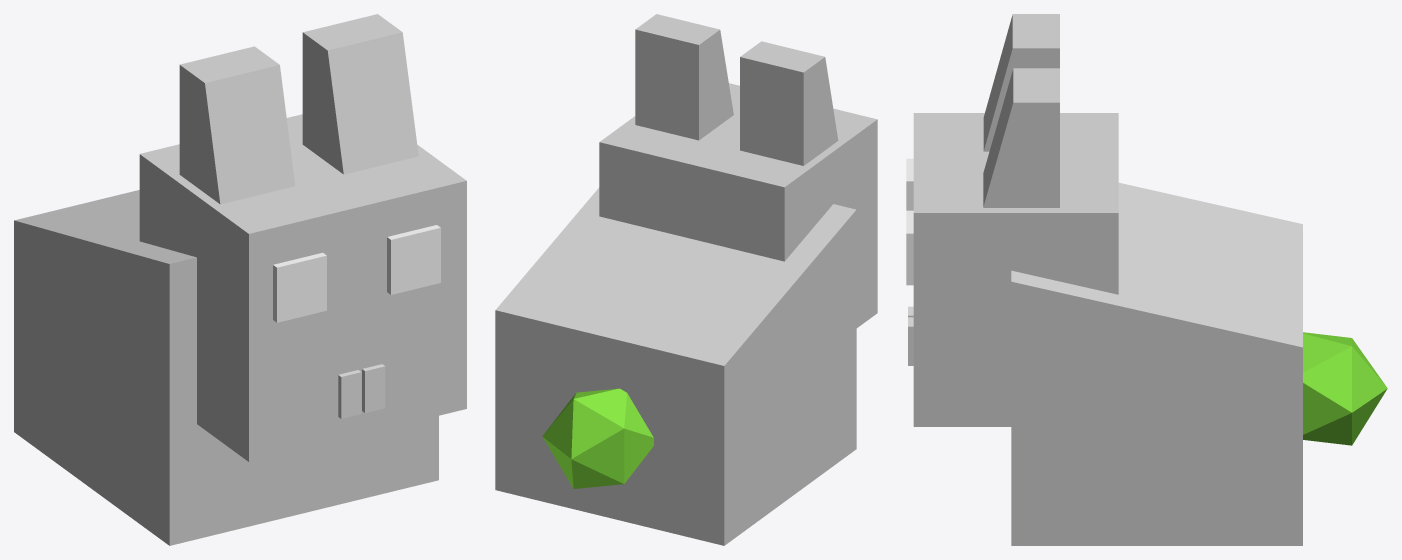
The model's file is Bunny.fbx.
3 renders of one model, left to right at view 1: azimuth 30°, elevation 25°; view 2: azimuth 150°, elevation 25°; view 3: azimuth 270°, elevation 25°, orthographic. The views are drawn at different scales.
Parts seen in each view (by area): view 1: Cube.002; view 2: Cube.002; view 3: Cube.002.
Boxes of the visible parts, x1,y1,x2,y2 form: Cube.002: [14, 14, 466, 545]; Cube.002: [495, 14, 877, 545]; Cube.002: [906, 14, 1387, 545].
Bounding box in the file's own units: 200 × 323 × 330.
